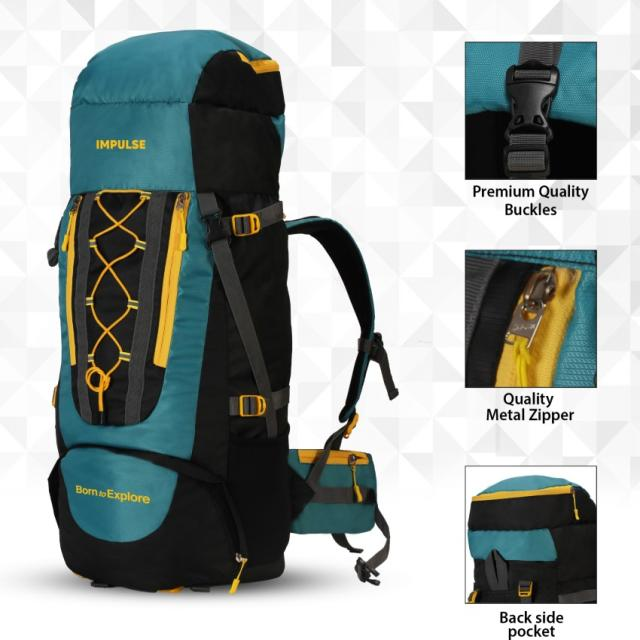backpack: (47, 29, 398, 595), (467, 476, 597, 605)
